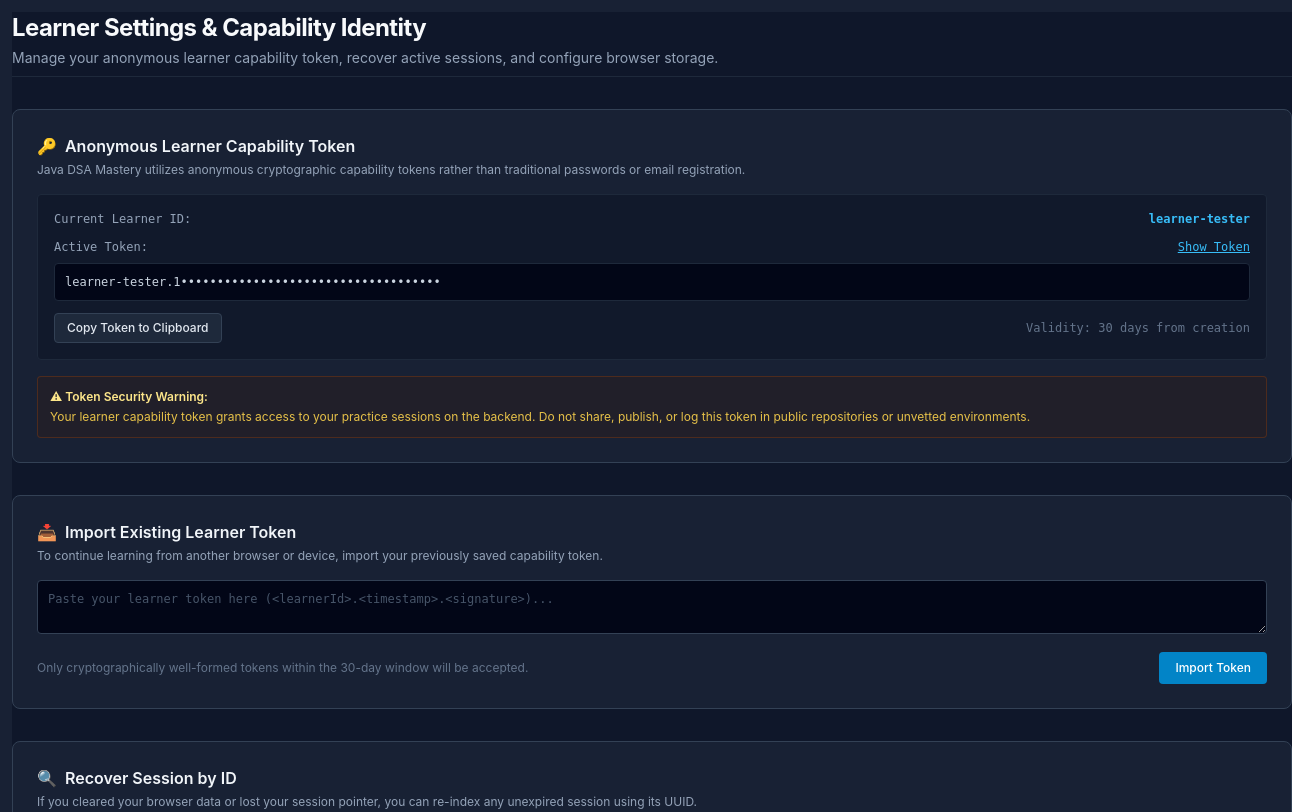
Test case: SettingsView Component › rejects invalid or expired token format without altering storage
This screenshot has width=1292, height=812.
Type "invalid-malformed-token" into the text box with test id "input-import-token" at (652, 607), box [37,580,1267,634]
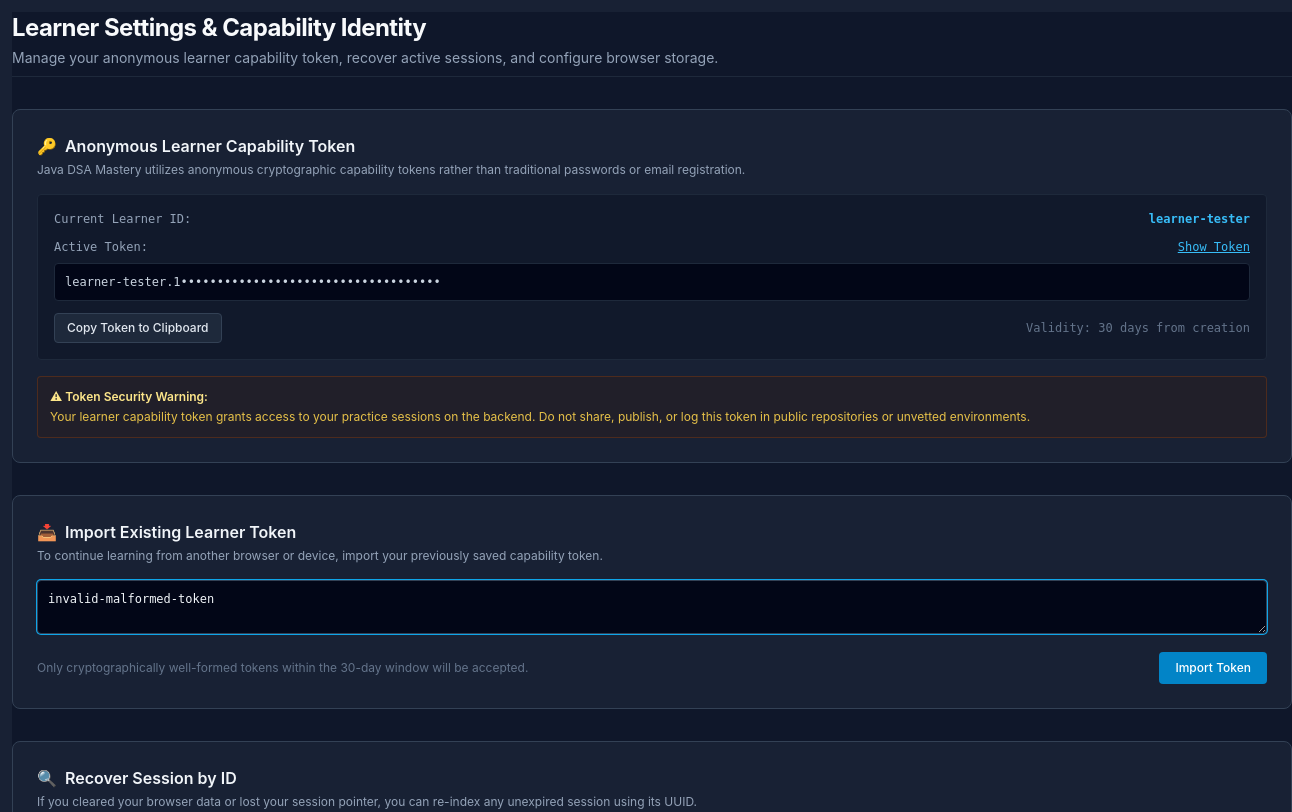
Click the button with test id "btn-import-token" at (1213, 668), box [1159,652,1267,684]
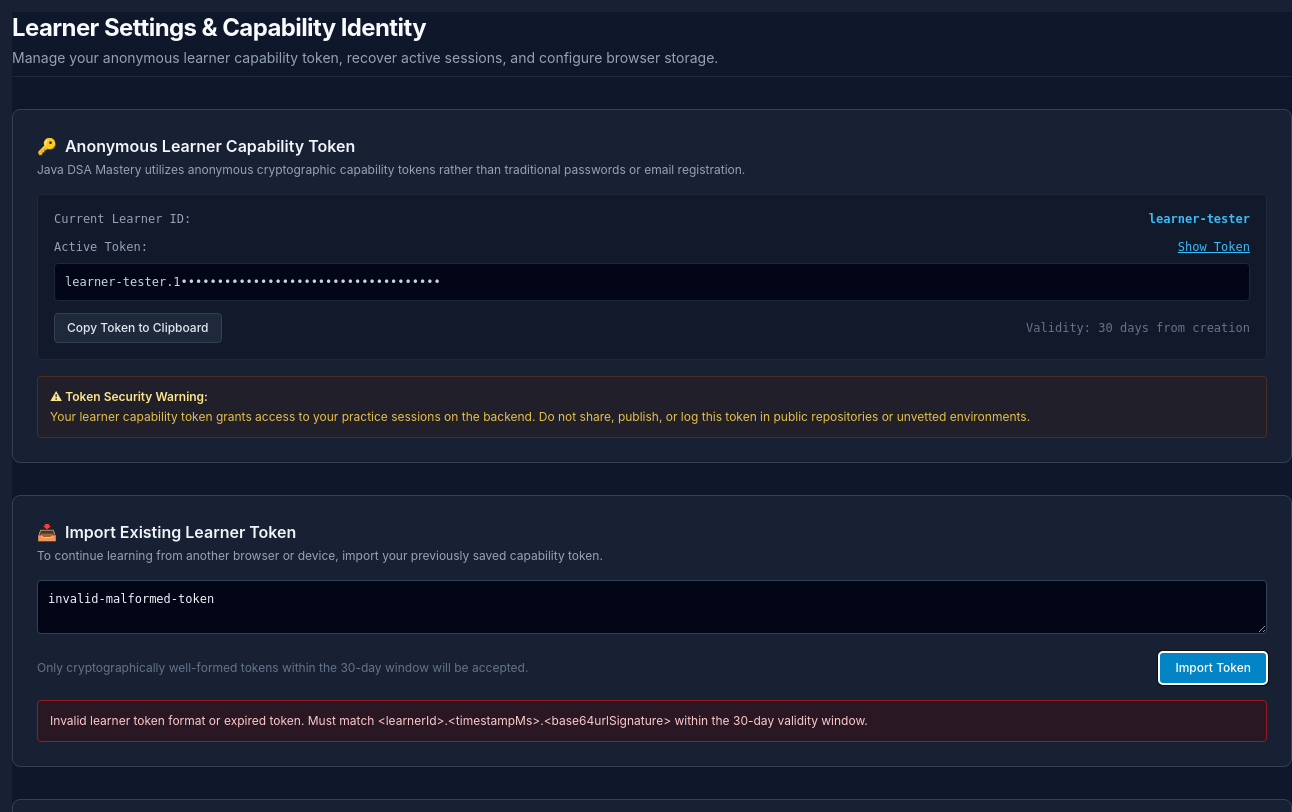
Now the text "Invalid learner token format or expired token" is shown, box [50,713,868,728]
